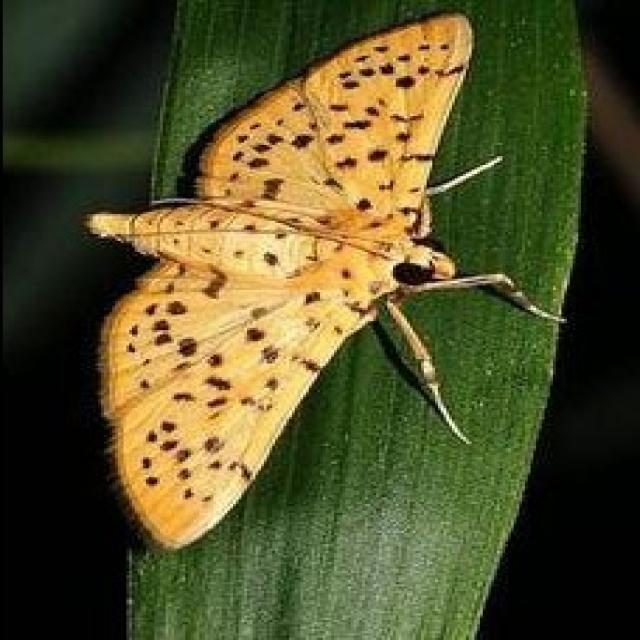peach borer: (80, 11, 568, 548)
